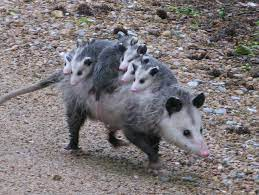opossum: (0, 27, 211, 165)
